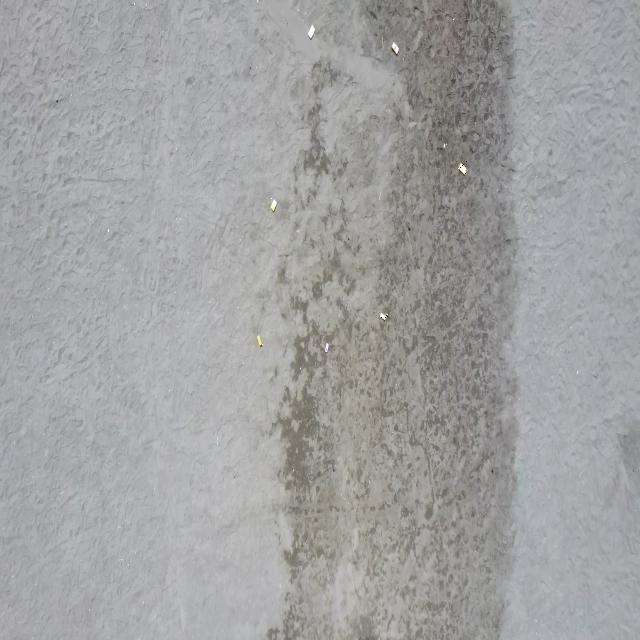Garbage: (457, 163, 466, 173), (307, 24, 313, 37), (391, 42, 397, 55), (270, 200, 276, 212), (256, 335, 261, 347), (380, 312, 387, 319), (442, 141, 446, 148), (324, 343, 327, 352)
